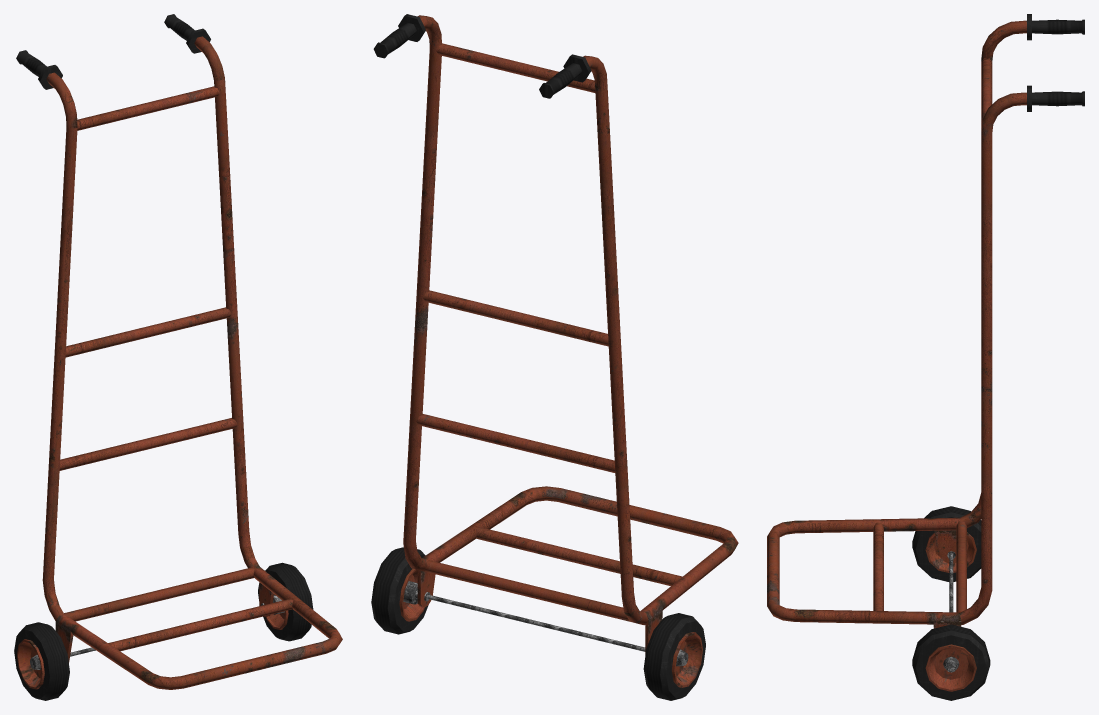
File: hand_truck.glb
The picture shows the model from 3 angles, left to right: view 1: azimuth 30°, elevation 25°; view 2: azimuth 150°, elevation 25°; view 3: azimuth 270°, elevation 25°; orthographic projection. The views are drawn at different scales.
Visible parts, largest first — view 1: Material3 (×2); view 2: Material3 (×2), Material2; view 3: Material3 (×2), Material2.
Boxes of the visible parts, x1=… form: Material3 (×2): x1=14, y1=14, x2=342, y2=700; Material3 (×2): x1=371, y1=14, x2=738, y2=700; Material2: x1=403, y1=581, x2=688, y2=666; Material3 (×2): x1=767, y1=14, x2=1084, y2=700; Material2: x1=943, y1=551, x2=959, y2=672.
Size of the model in its own units: 22 by 46.19 by 22.71.
Materials: 5 (3 with a texture image).
